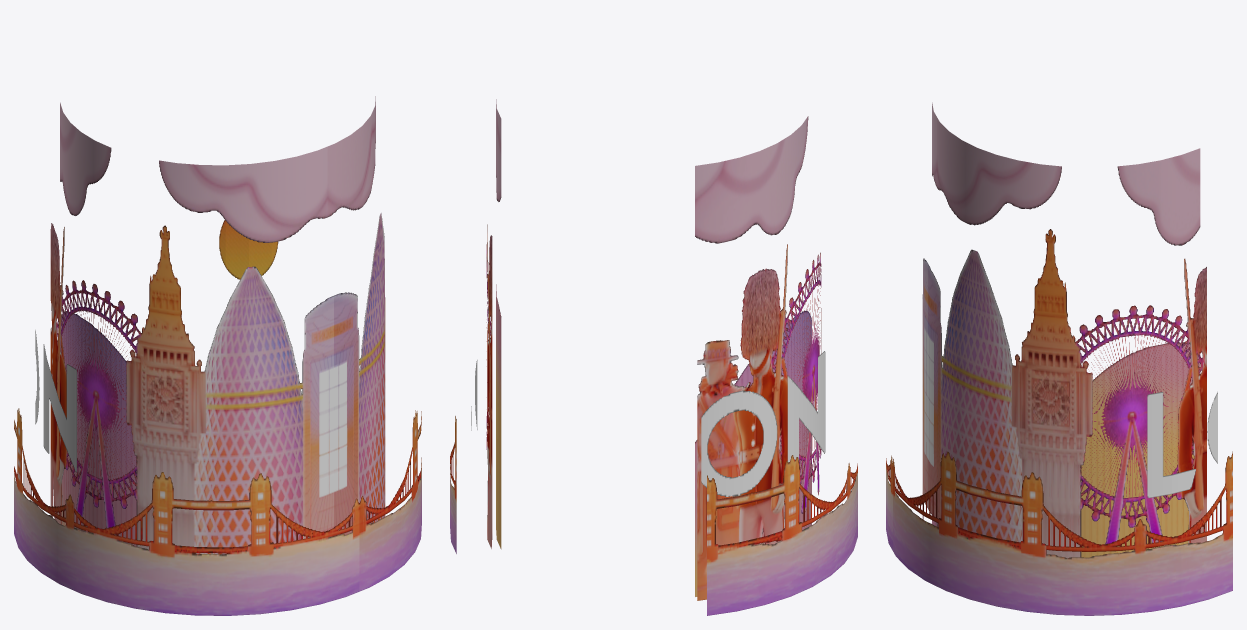
The picture shows the model from 3 angles, left to right: view 1: azimuth 30°, elevation 25°; view 2: azimuth 150°, elevation 25°; view 3: azimuth 270°, elevation 25°; orthographic projection.
Visible parts, largest first — view 1: Cyclinder_03, Cyclinder_01, Cyclinder_04, Cyclinder_02, Cyclinder_05; view 2: Cyclinder_03, Cyclinder_01, Cyclinder_04, Cyclinder_02; view 3: Cyclinder_03, Cyclinder_01, Cyclinder_04, Cyclinder_02.
Part boxes in pixels (x1,y1,x2,y2): Cyclinder_03: [50, 213, 385, 554]; Cyclinder_01: [14, 408, 421, 615]; Cyclinder_04: [60, 96, 375, 546]; Cyclinder_02: [35, 330, 76, 472]; Cyclinder_05: [219, 220, 278, 279]; Cyclinder_03: [486, 224, 821, 600]; Cyclinder_01: [450, 416, 857, 615]; Cyclinder_04: [496, 99, 811, 596]; Cyclinder_02: [471, 351, 825, 496]; Cyclinder_03: [922, 229, 1206, 557]; Cyclinder_01: [886, 451, 1232, 615]; Cyclinder_04: [932, 102, 1200, 557]; Cyclinder_02: [1147, 392, 1217, 497].
Size of the model in its own units: 0.7027 by 0.8213 by 0.5998.
Materials: 5 (5 with a texture image).
